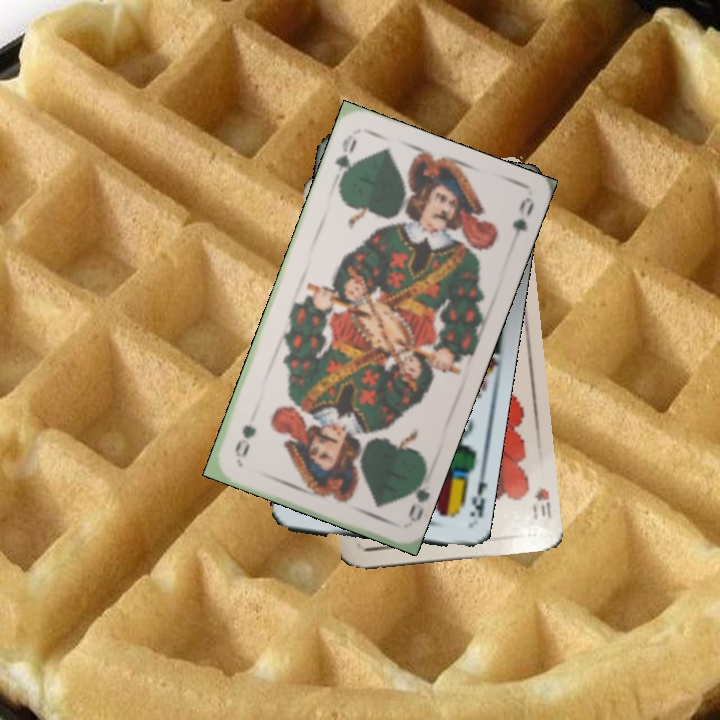EK: (464, 476, 489, 531)
GO: (400, 468, 431, 525), (331, 130, 360, 189)
H10: (528, 483, 554, 523)
